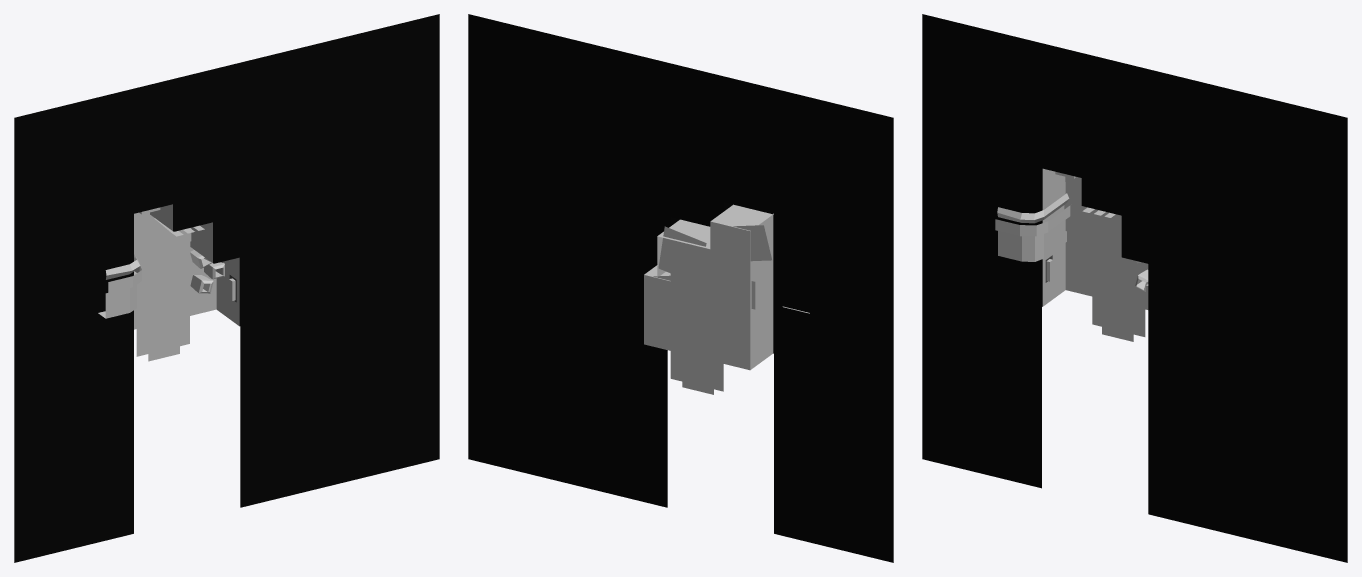
Rendered from Sewer-Main_02_05.obj.
3 views of the same model, side by side, from view 1: azimuth 30°, elevation 25°; view 2: azimuth 150°, elevation 25°; view 3: azimuth 330°, elevation 25° (orthographic).
Visible parts, largest first — view 1: map; view 2: map; view 3: map.
Boxes of the visible parts, x1,y1,x2,y2 form: map: (14,14,439,562); map: (468,14,893,562); map: (922,14,1347,562).
Bounding box in the file's own units: 32 × 32 × 4.48.
